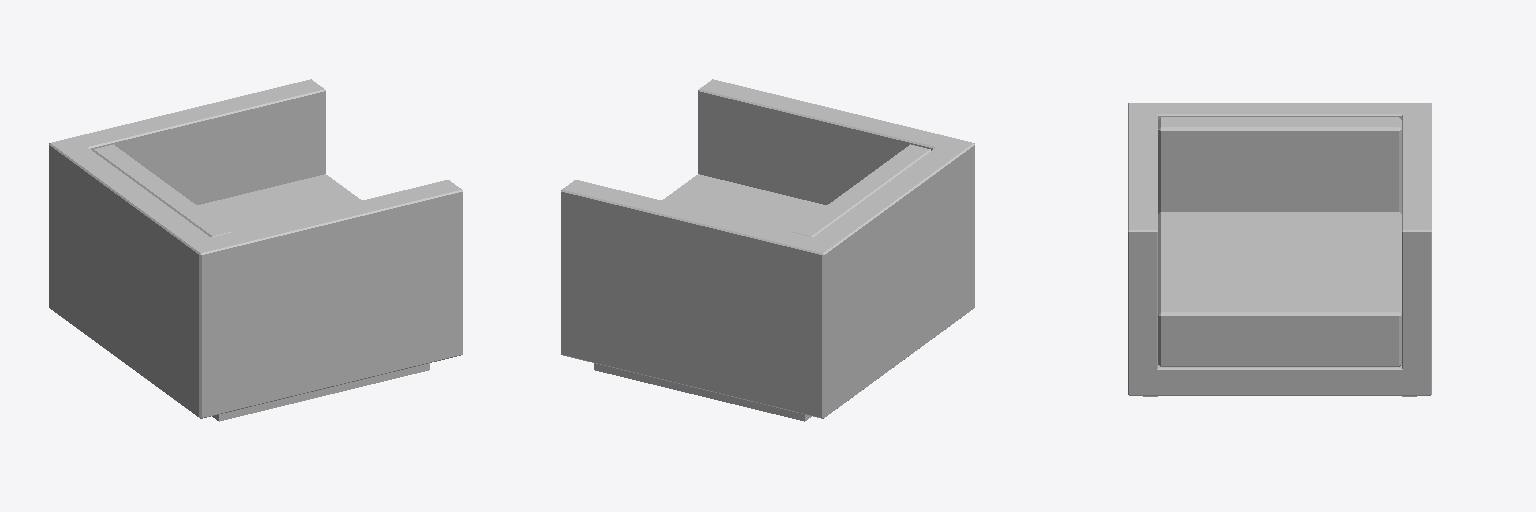
File: sofa-single.obj
3 renders of one model, left to right at view 1: azimuth 30°, elevation 25°; view 2: azimuth 150°, elevation 25°; view 3: azimuth 270°, elevation 25°, orthographic.
Parts seen in each view (by area): view 1: sofa_Cube; view 2: sofa_Cube; view 3: sofa_Cube.
Boxes of the visible parts, x1,y1,x2,y2 form: sofa_Cube: [49, 79, 462, 421]; sofa_Cube: [561, 79, 974, 421]; sofa_Cube: [1128, 103, 1431, 396].
Bounding box in the file's own units: 1 × 0.65 × 1.